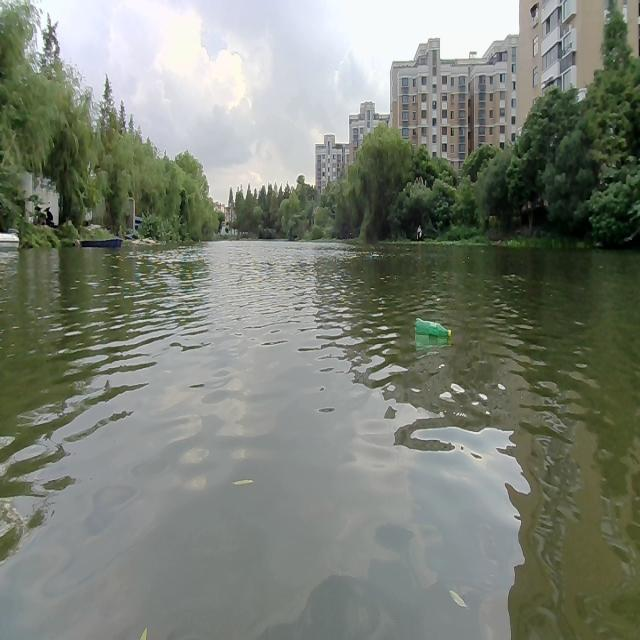bottle: (414, 315, 452, 344)
